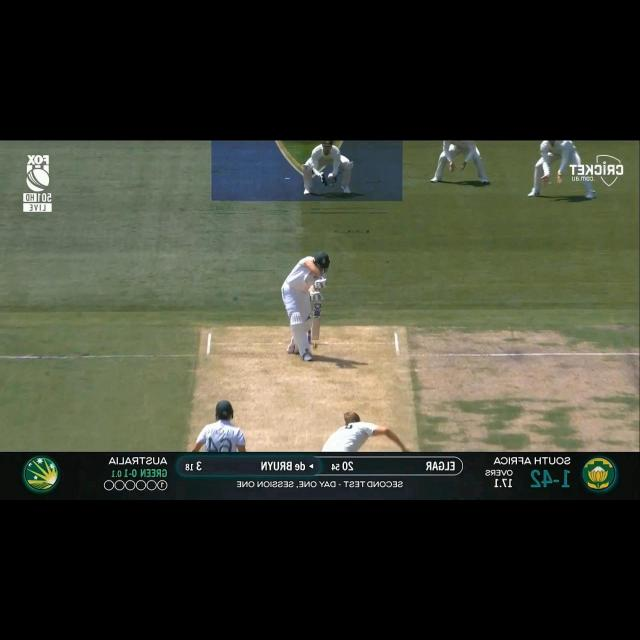bat: (311, 303, 322, 341)
toe: (311, 336, 320, 341)
